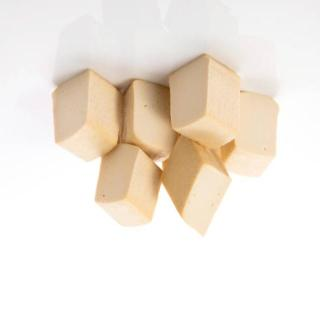Tahu: (35, 44, 290, 246)
